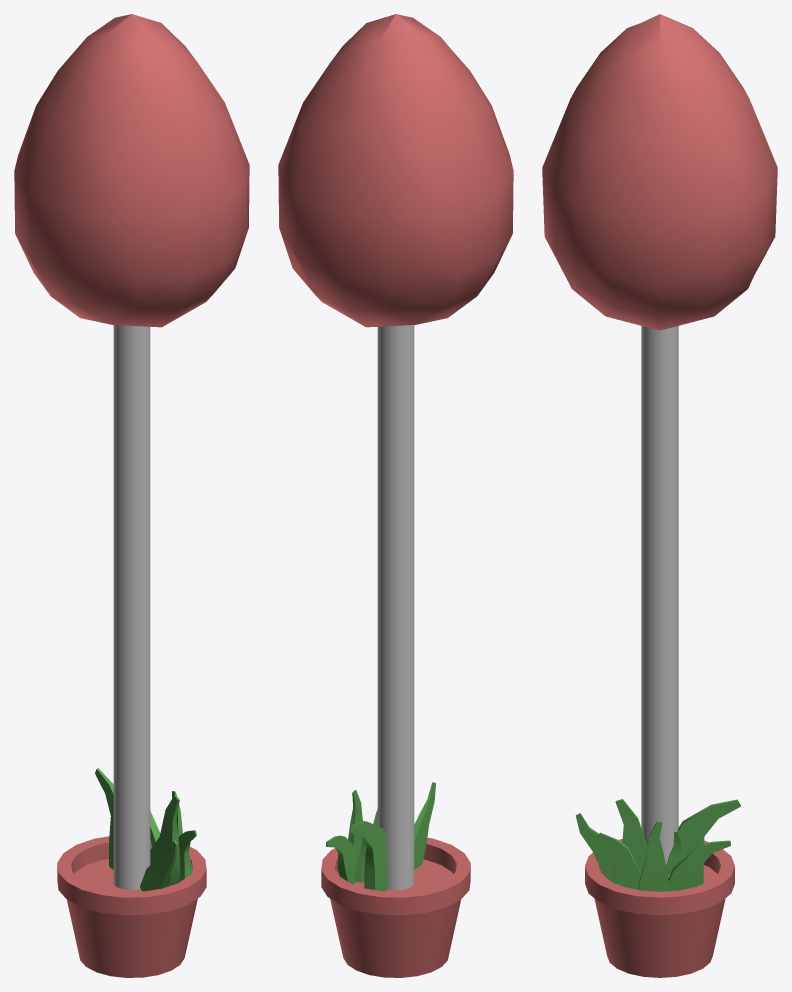
The model's file is Inside_Tree_L.fbx.
3 views of the same model, side by side, from view 1: azimuth 30°, elevation 25°; view 2: azimuth 150°, elevation 25°; view 3: azimuth 270°, elevation 25° (orthographic).
Visible parts, largest first — view 1: Leafes, Stump, Inside_Tree_2, Würfel_3, Würfel_1, Würfel_2, Würfel_5; view 2: Leafes, Stump, Inside_Tree_2, Würfel_2, Würfel_1, Würfel_7; view 3: Leafes, Stump, Inside_Tree_2, Würfel_2, Würfel_7, Würfel_4, Würfel_5, Würfel_3, Würfel_1.
Part boxes in pixels (x1,y1,x2,y2): Leafes: [14, 14, 249, 327]; Stump: [113, 325, 150, 890]; Inside_Tree_2: [57, 836, 206, 977]; Würfel_3: [150, 795, 180, 886]; Würfel_1: [140, 840, 177, 891]; Würfel_2: [95, 768, 113, 869]; Würfel_5: [178, 830, 196, 882]; Leafes: [278, 14, 513, 327]; Stump: [377, 325, 414, 890]; Inside_Tree_2: [321, 837, 470, 977]; Würfel_2: [350, 821, 387, 891]; Würfel_1: [414, 782, 435, 869]; Würfel_7: [326, 835, 359, 884]; Leafes: [542, 14, 777, 330]; Stump: [641, 326, 678, 865]; Inside_Tree_2: [585, 839, 734, 977]; Würfel_2: [678, 799, 740, 885]; Würfel_7: [668, 840, 730, 891]; Würfel_4: [638, 821, 669, 891]; Würfel_5: [598, 832, 641, 889]; Würfel_3: [615, 799, 669, 878]; Würfel_1: [575, 813, 616, 881].
Bounding box in the file's own units: 200 × 882 × 200.
